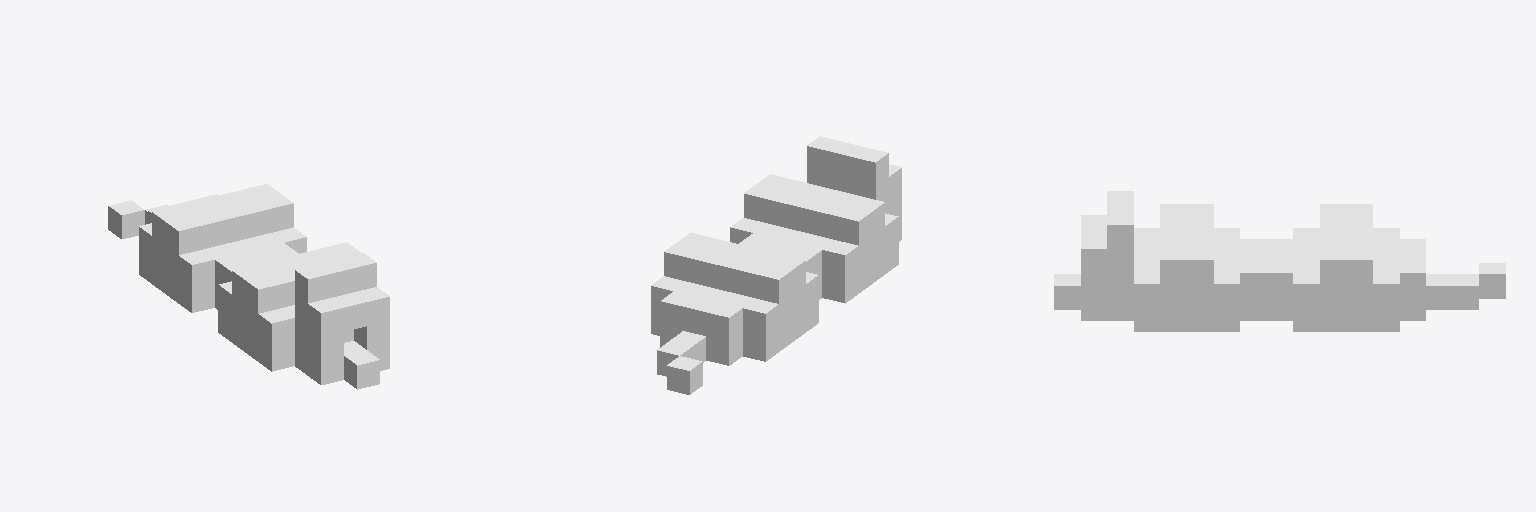
File: RatEat.obj
3 renders of one model, left to right at view 1: azimuth 30°, elevation 25°; view 2: azimuth 150°, elevation 25°; view 3: azimuth 270°, elevation 25°, orthographic.
Bounding box in the file's own units: 10 × 8 × 34.